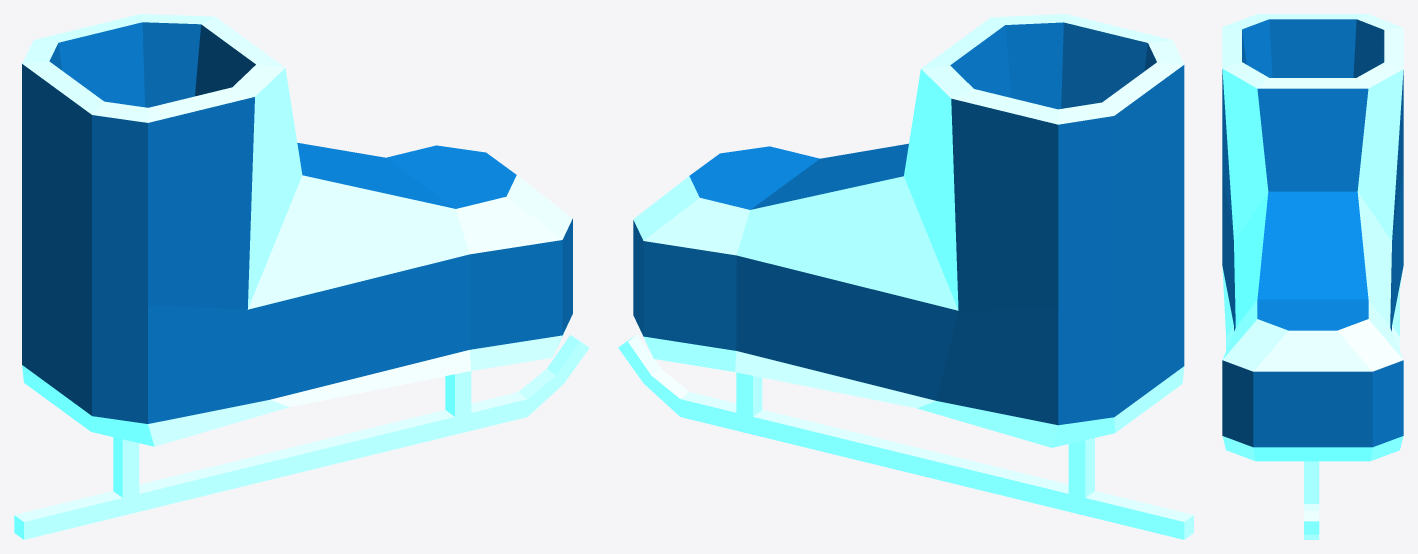
File: boot_skates.glb
3 views of the same model, side by side, from view 1: azimuth 30°, elevation 25°; view 2: azimuth 150°, elevation 25°; view 3: azimuth 270°, elevation 25° (orthographic). The views are drawn at different scales.
Parts seen in each view (by area): view 1: Cube.001; view 2: Cube.001; view 3: Cube.001.
Boxes of the visible parts, <box> form: Cube.001: <box>14,14,589,539</box>; Cube.001: <box>618,14,1193,539</box>; Cube.001: <box>1222,14,1403,539</box>.
Bounding box in the file's own units: 1.33 × 0.9864 × 0.4645.
Materials: 2 (1 with a texture image).
